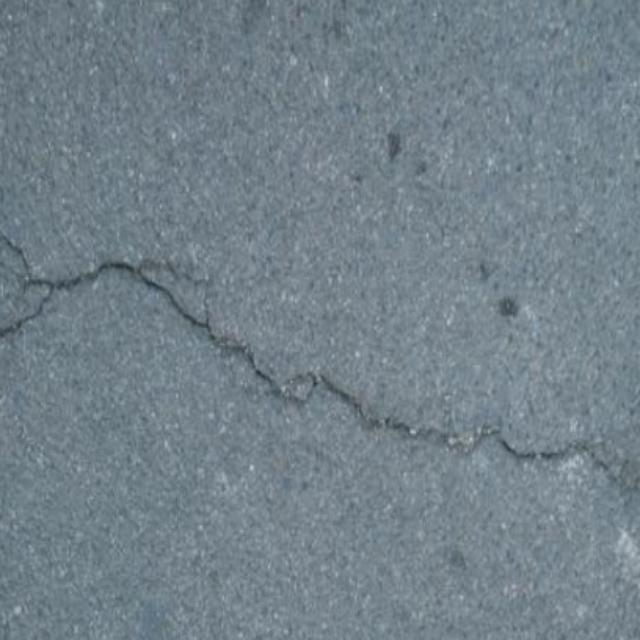GRIETA: (0, 262, 639, 496), (144, 258, 212, 316), (0, 229, 51, 288)
